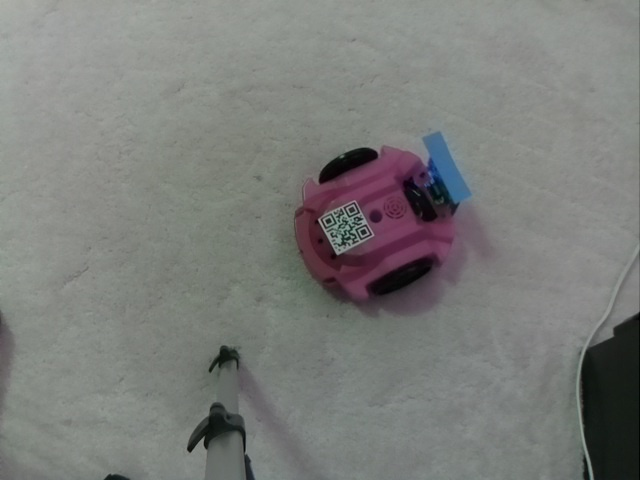chassis: (286, 127, 474, 303)
qr: (318, 201, 379, 250)
